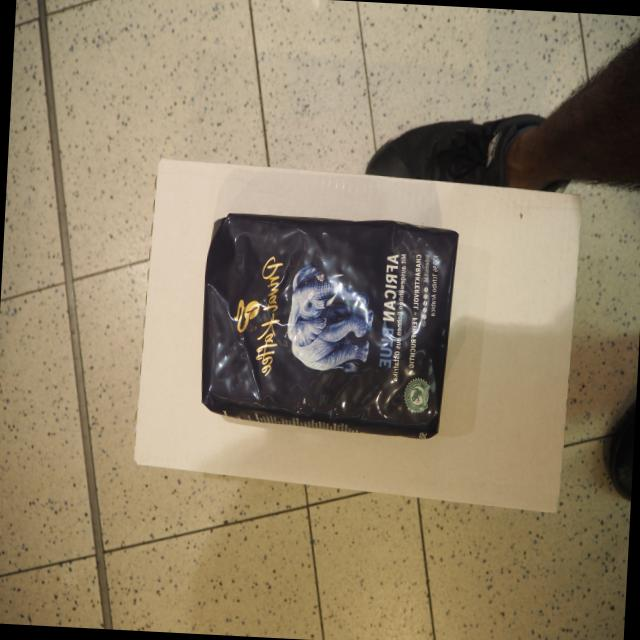AB Bohne: (194, 205, 462, 443)
